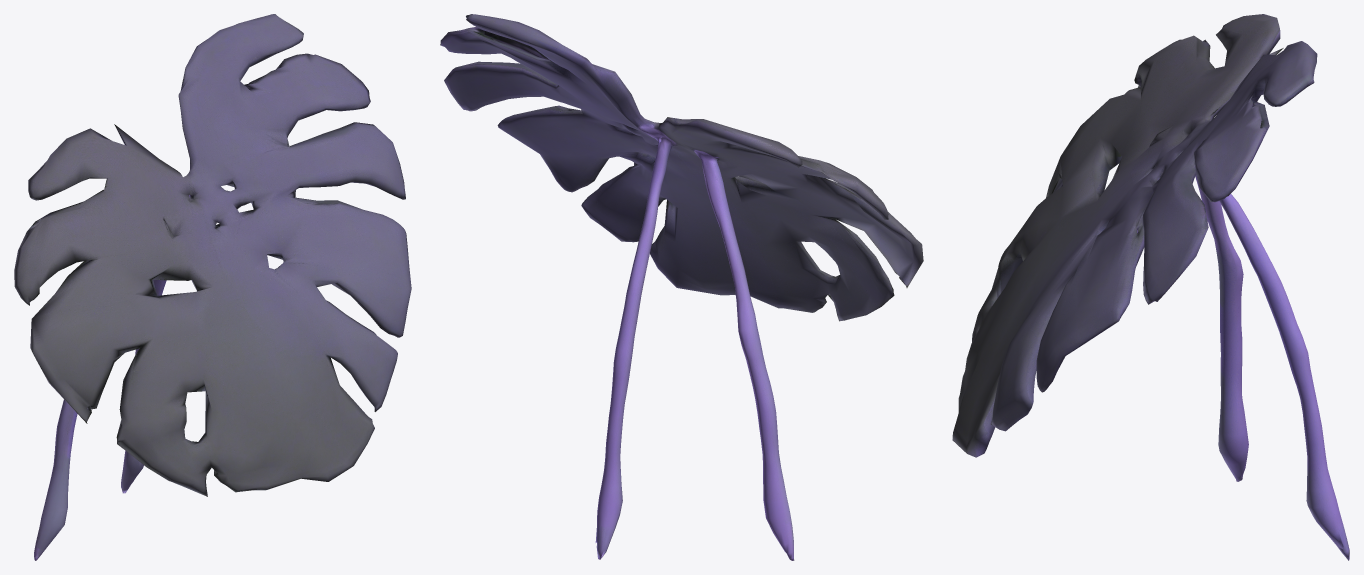
File: mon_halfmoon_mint.glb
3 renders of one model, left to right at view 1: azimuth 30°, elevation 25°; view 2: azimuth 150°, elevation 25°; view 3: azimuth 270°, elevation 25°, orthographic. The views are drawn at different scales.
Bounding box in the file's own units: 1.82 × 2 × 1.27.
Materials: 1 (1 with a texture image).
